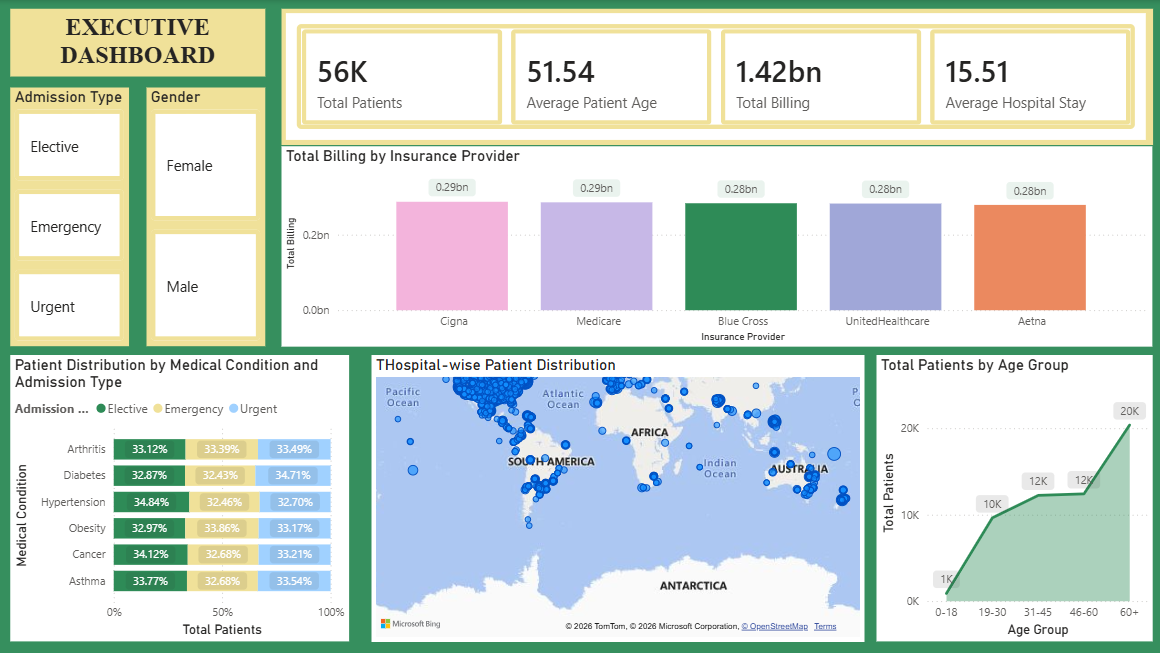

The dashboard page shown, as its layout file describes it:
{"tool":"powerbi","page":{"name":"Page 1","canvas":[1280,720],"ordinal":0},"visuals":[{"type":"textbox","box":[12.3,9.6,279.9,74.1],"z":0},{"type":"cardVisual","fields":{"Data":["All Measures.Total Patients","All Measures.Average Age","All Measures.Total Billing","All Measures.Average Stay"]},"box":[310.1,9.6,956.4,149.6],"z":1000},{"type":"advancedSlicerVisual","fields":{"Values":["Healthcare data.Admission Type"]},"box":[12.3,96.1,130.4,284],"z":2000},{"type":"advancedSlicerVisual","fields":{"Values":["Healthcare data.Gender"]},"box":[161.9,96.1,130.4,284],"z":3000},{"type":"hundredPercentStackedBarChart","title":"Patient Distribution by Medical Condition and Admission Type","fields":{"Category":["Healthcare data.Medical Condition"],"Y":["All Measures.Total Patients"],"Series":["Healthcare data.Admission Type"]},"box":[12.3,389.7,371.9,314.2],"z":4000},{"type":"columnChart","fields":{"Category":["Healthcare data.Insurance Provider"],"Y":["All Measures.Total Billing"]},"box":[310,160,956,220],"z":5000},{"type":"map","title":"THospital-wise Patient Distribution","fields":{"Category":["Healthcare data.Hospital"],"Size":["All Measures.Total Patients"]},"box":[408.9,389.7,540.7,314.2],"z":6000},{"type":"lineChart","fields":{"Y":["All Measures.Total Patients"],"Category":["Healthcare data.Age Group"]},"box":[963.3,389.7,303.3,314.2],"z":7000}]}

Visuals, with their boxes in screenshot pixels (x1, y1, x2, y2), scaled from the page's 1280x720 canvas onto the 1160x653 screenshot:
textbox: detection(11, 9, 265, 76)
cardVisual - All Measures.Total Patients x All Measures.Average Age: detection(281, 9, 1148, 144)
advancedSlicerVisual - Healthcare data.Admission Type: detection(11, 87, 129, 345)
advancedSlicerVisual - Healthcare data.Gender: detection(147, 87, 265, 345)
"Patient Distribution by Medical Condition and Admission Type" hundredPercentStackedBarChart: detection(11, 353, 348, 638)
columnChart - Healthcare data.Insurance Provider x All Measures.Total Billing: detection(281, 145, 1147, 345)
"THospital-wise Patient Distribution" map: detection(371, 353, 861, 638)
lineChart - All Measures.Total Patients x Healthcare data.Age Group: detection(873, 353, 1148, 638)
